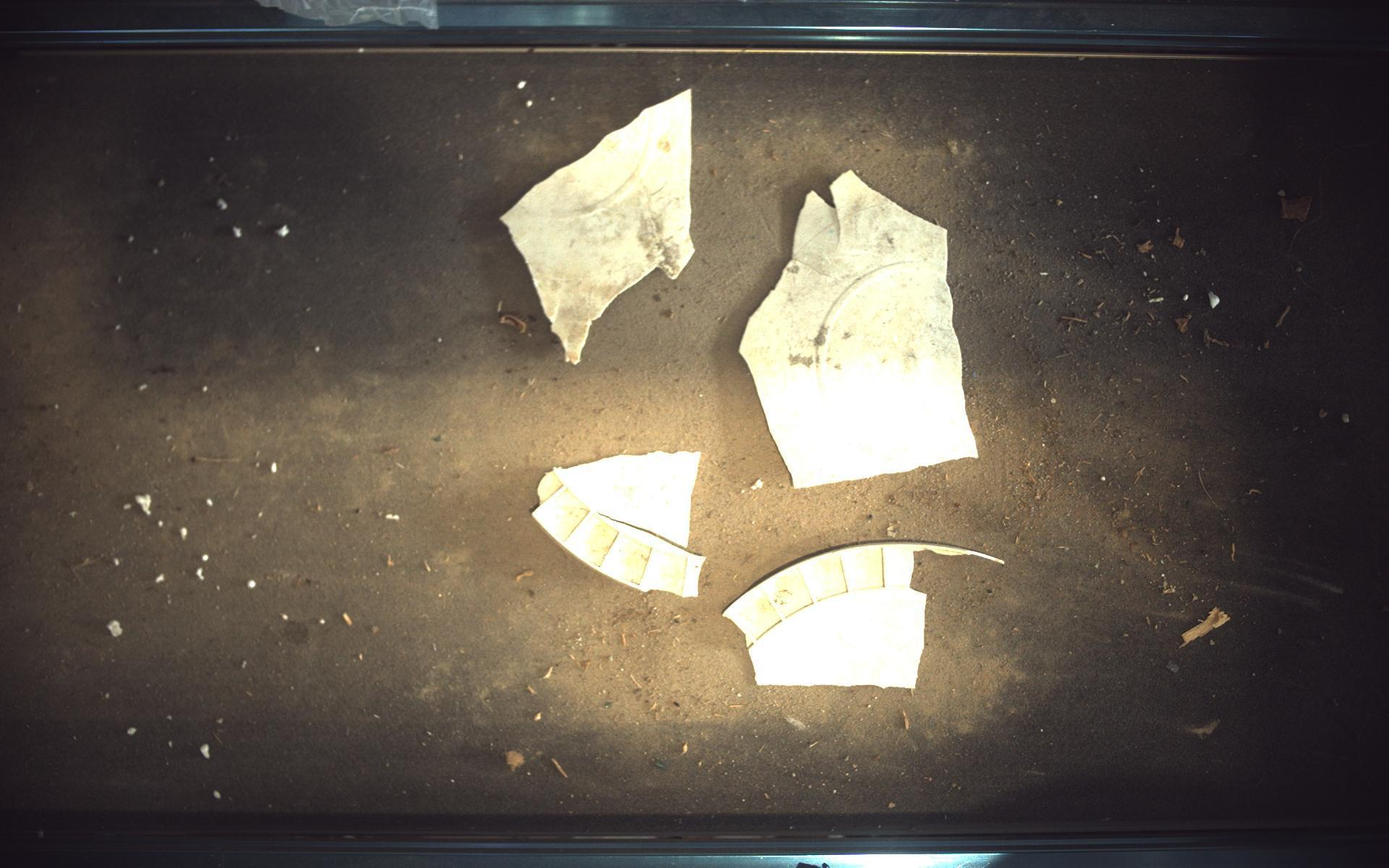plastic: (741, 170, 980, 488), (501, 89, 695, 363), (725, 542, 1006, 689), (532, 451, 705, 597)
